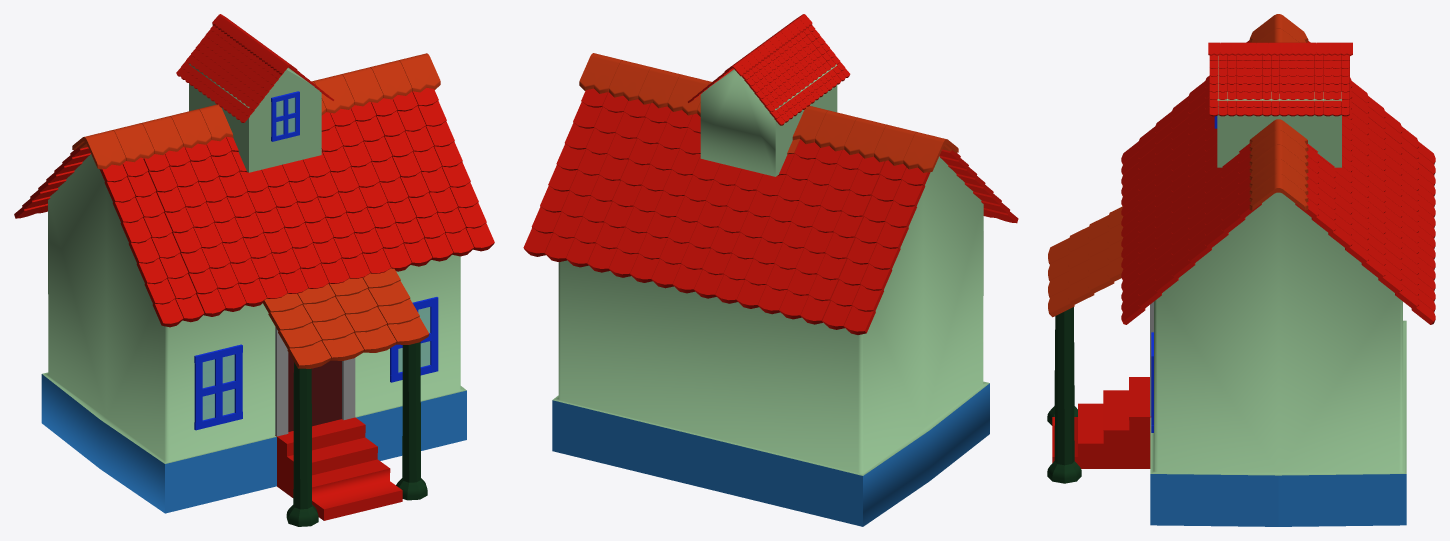
File: house3.FBX
3 views of the same model, side by side, from view 1: azimuth 30°, elevation 25°; view 2: azimuth 150°, elevation 25°; view 3: azimuth 270°, elevation 25° (orthographic). The views are drawn at different scales.
Parts seen in each view (by area): view 1: pCube58, Object003, polySurface446, pCube66, pCube59, Object002, polySurface459, polySurface458, pCylinder1, pCylinder2, polySurface465, polySurface464; view 2: Object003, pCube58, Object002, pCube59; view 3: Object003, pCube58, pCube59, Object005, pCube66, polySurface446, Object002, pCylinder2.
Boxes of the visible parts, left/top/right/bottom form: pCube58: left=14, top=53, right=494, bottom=327; Object003: left=41, top=154, right=466, bottom=513; polySurface446: left=263, top=268, right=429, bottom=368; pCube66: left=275, top=417, right=402, bottom=520; pCube59: left=176, top=14, right=333, bottom=122; Object002: left=189, top=63, right=321, bottom=172; polySurface459: left=275, top=327, right=355, bottom=436; polySurface458: left=194, top=344, right=242, bottom=430; pCylinder1: left=286, top=362, right=318, bottom=526; pCylinder2: left=396, top=342, right=427, bottom=500; polySurface465: left=390, top=297, right=438, bottom=382; polySurface464: left=271, top=91, right=299, bottom=141; Object003: left=552, top=156, right=989, bottom=526; pCube58: left=523, top=53, right=1018, bottom=334; Object002: left=700, top=64, right=837, bottom=176; pCube59: left=688, top=14, right=850, bottom=125; Object003: left=1150, top=192, right=1406, bottom=526; pCube58: left=1121, top=14, right=1435, bottom=324; pCube59: left=1208, top=42, right=1352, bottom=116; Object005: left=1278, top=474, right=1406, bottom=526; pCube66: left=1052, top=377, right=1150, bottom=468; polySurface446: left=1048, top=206, right=1123, bottom=317; Object002: left=1217, top=56, right=1341, bottom=167; pCylinder2: left=1047, top=307, right=1081, bottom=483.
Bounding box in the file's own units: 16.54 × 18.03 × 15.6.
